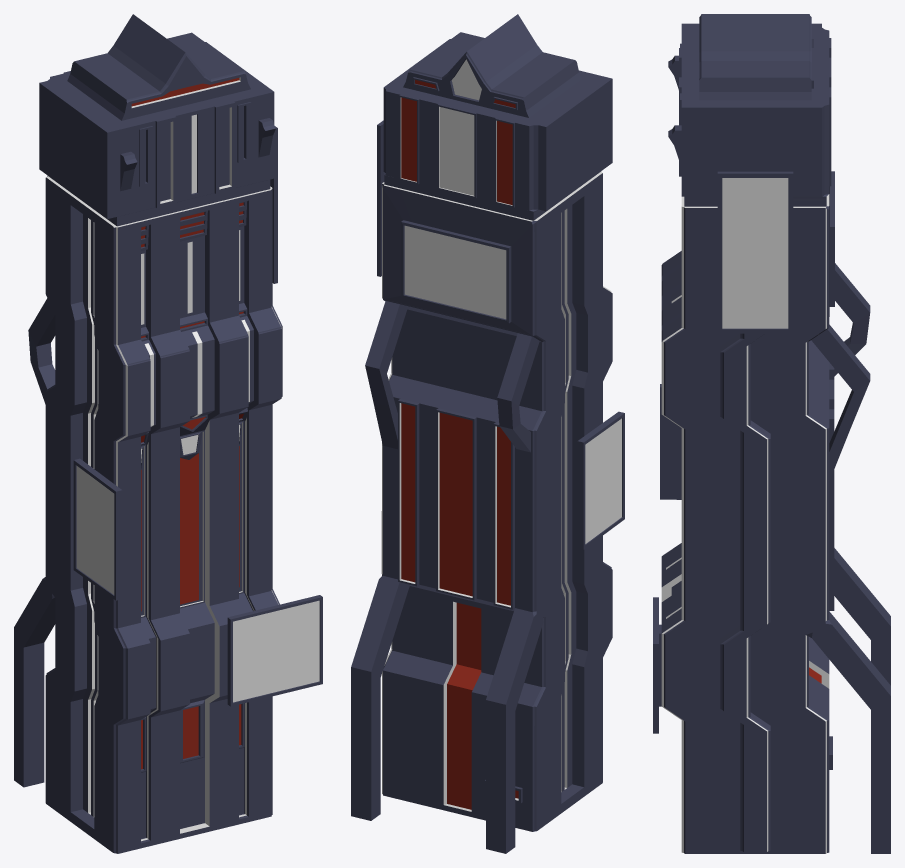
File: Jam_Skyscraper_01.fbx
3 renders of one model, left to right at view 1: azimuth 30°, elevation 25°; view 2: azimuth 150°, elevation 25°; view 3: azimuth 270°, elevation 25°, orthographic. The views are drawn at different scales.
Parts seen in each view (by area): view 1: Cube; view 2: Cube; view 3: Cube.
Part boxes in pixels (<box>): Cube: <box>14,14,322,853</box>; Cube: <box>351,14,624,853</box>; Cube: <box>653,14,890,853</box>.
Bounding box in the file's own units: 3786 × 13780 × 3713.
